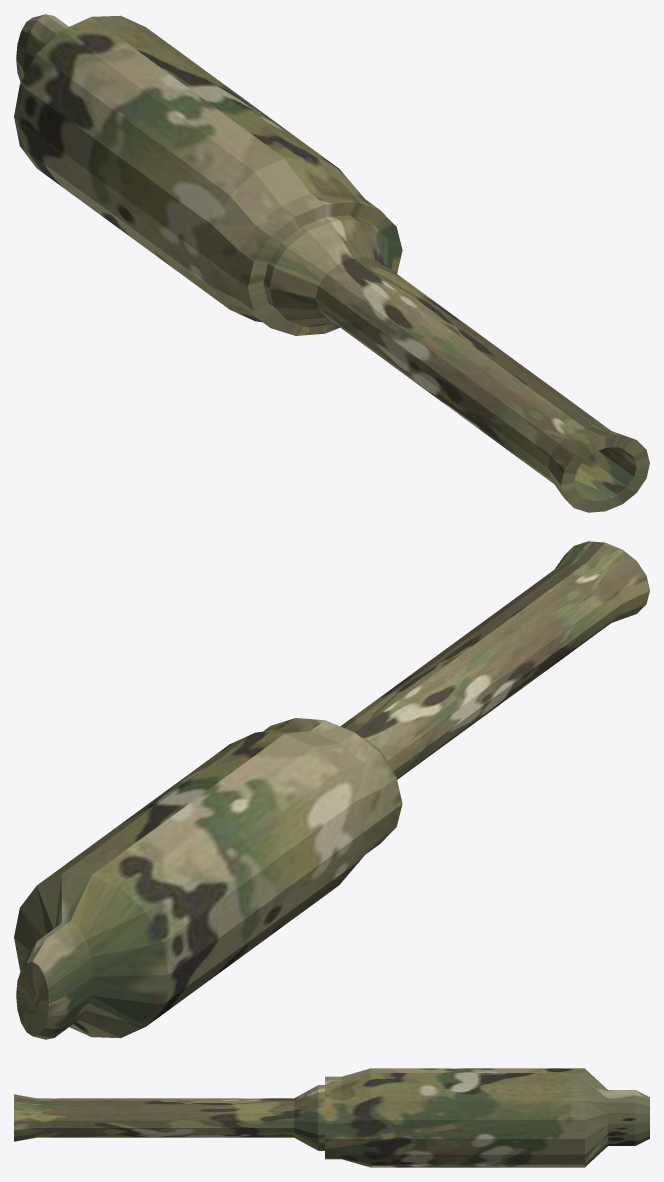
Rendered from Gun_body.obj.
The picture shows the model from 3 angles, top to bottom: view 1: azimuth 30°, elevation 25°; view 2: azimuth 150°, elevation 25°; view 3: azimuth 270°, elevation 25°; orthographic projection. The views are drawn at different scales.
Parts seen in each view (by area): view 1: Gun_body; view 2: Gun_body; view 3: Gun_body.
Part boxes in pixels (<box>): Gun_body: <box>14,14,649,512</box>; Gun_body: <box>14,541,649,1039</box>; Gun_body: <box>14,1068,649,1167</box>.
Bounding box in the file's own units: 2 × 2 × 12.83.
